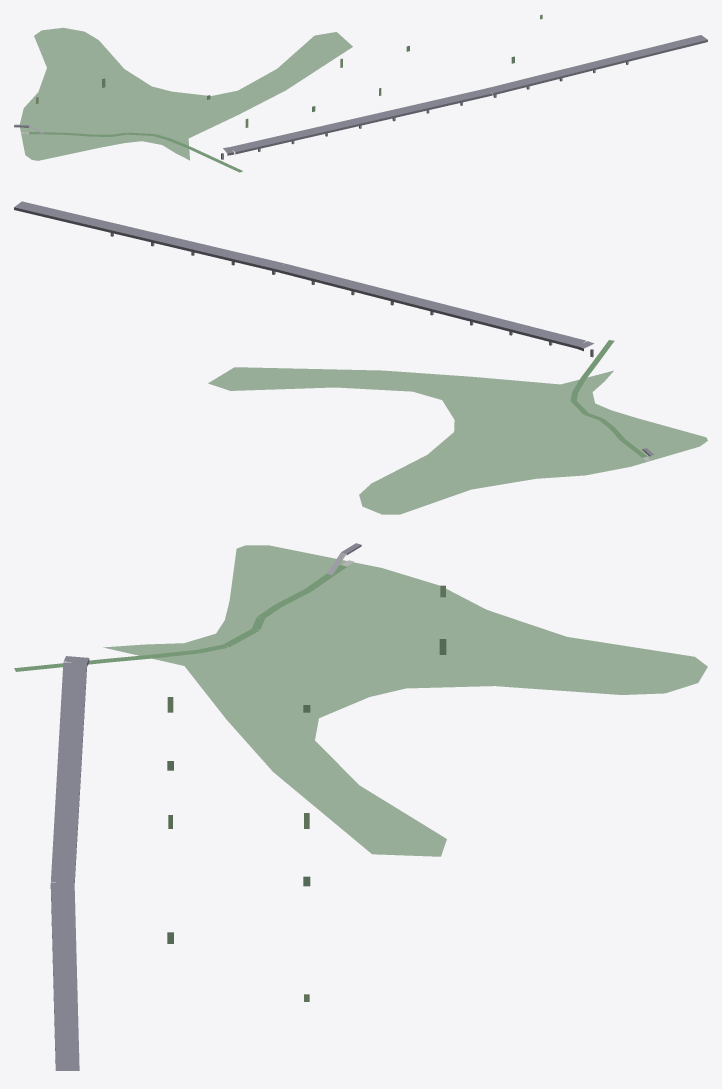
3 views of the same model, one above another, from view 1: azimuth 30°, elevation 25°; view 2: azimuth 150°, elevation 25°; view 3: azimuth 270°, elevation 25° (orthographic). The views are drawn at different scales.
Size of the model in its own units: 562 by 8.41 by 306.
